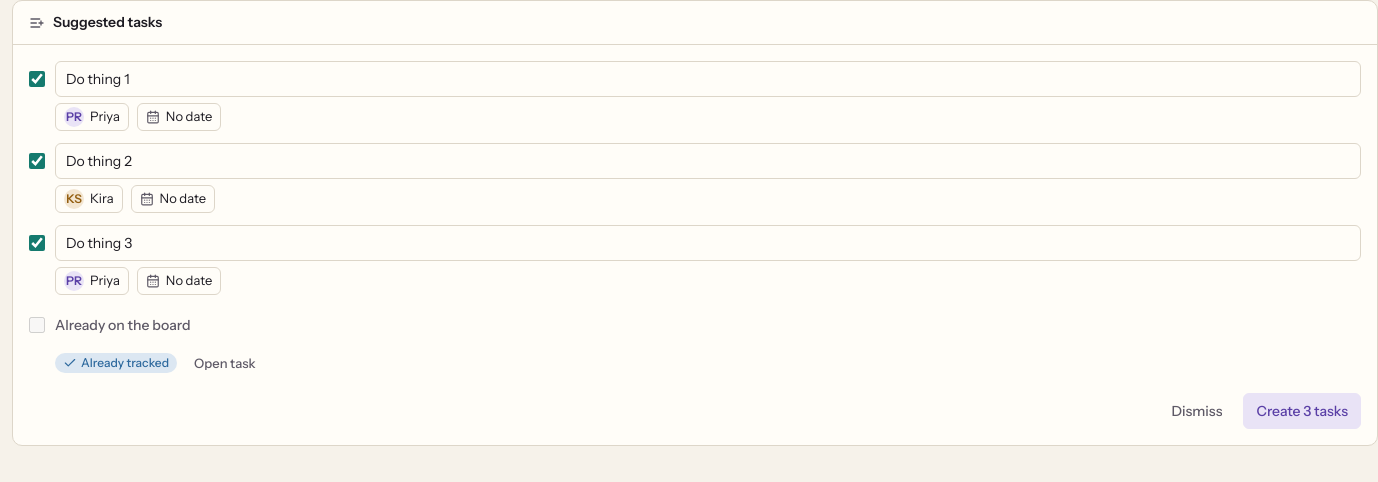
Test: SuggestedTasks › lists a row per suggestion, with tracked ones disabled and linked to the task
Check: the heading "Suggested tasks" is shown, box [29, 14, 162, 32]
Check: the number of fields named "Task title" is 3, box [55, 61, 1361, 97]; [55, 143, 1361, 179]; [55, 225, 1361, 261]
Click the button with aria-label "Open task: Already on the board" at (225,363), box [185, 349, 264, 377]
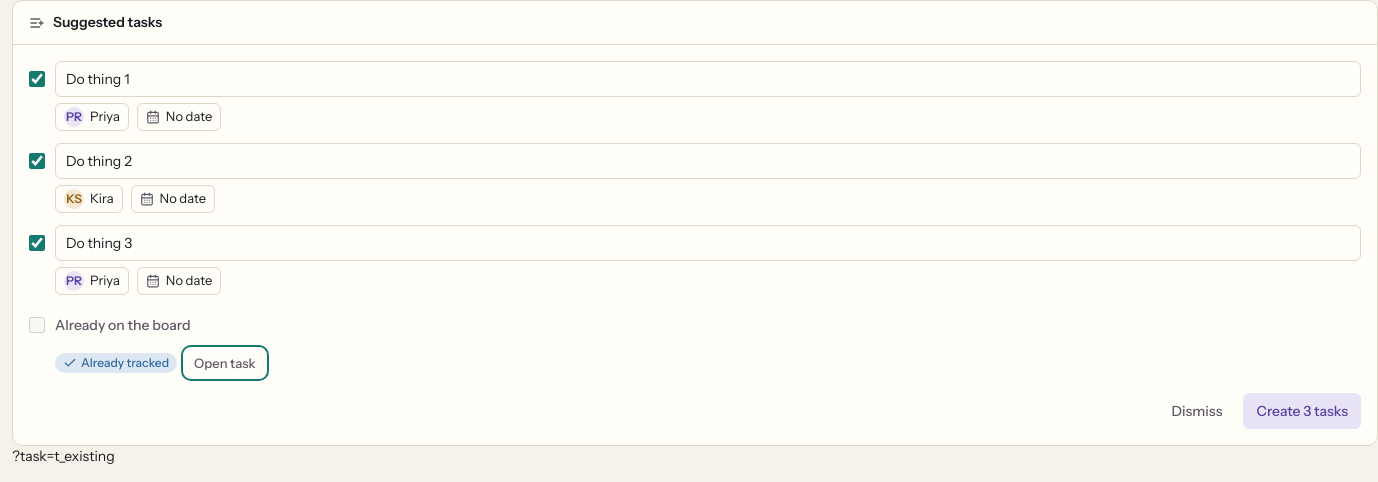
Check: the text with test id "search" reads "?task=t_existing", box [12, 447, 115, 465]
